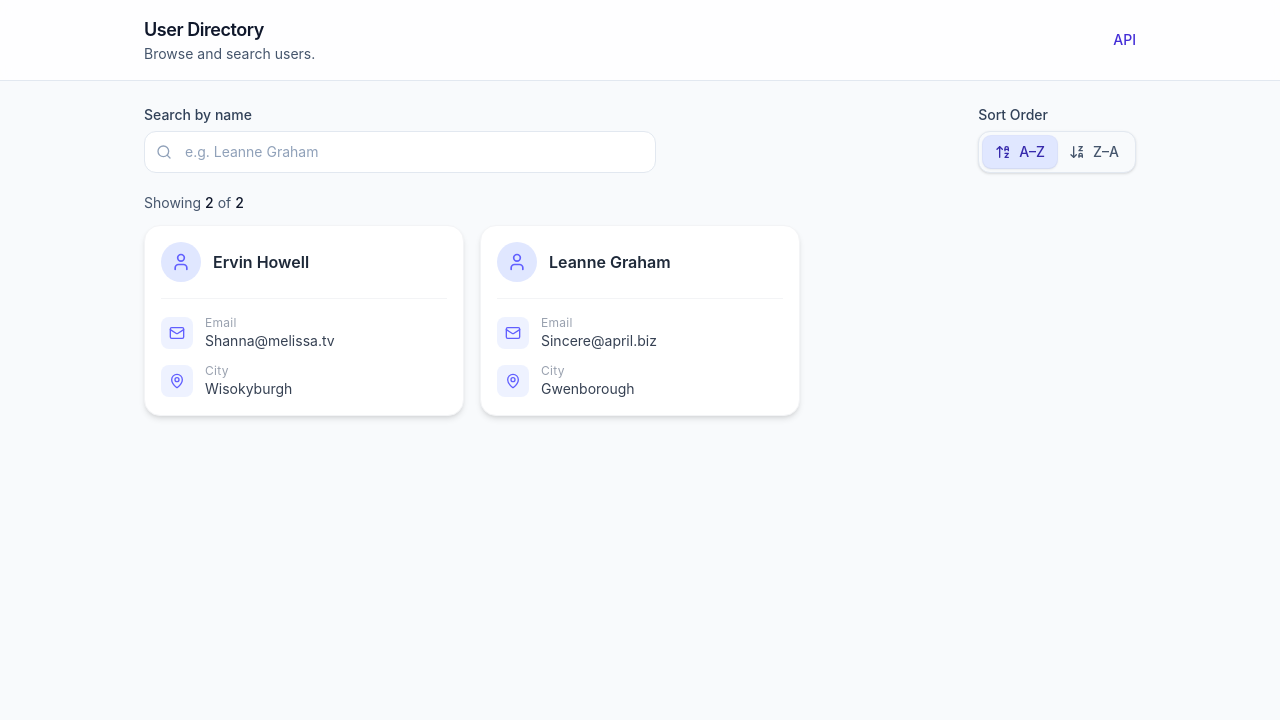
App Integration › should update URL when a user is clicked and open modal
Expected: the text "Leanne Graham" is shown, [549,250,671,274]
Click the button "Leanne Graham" at (517, 262), box [480,225,800,416]
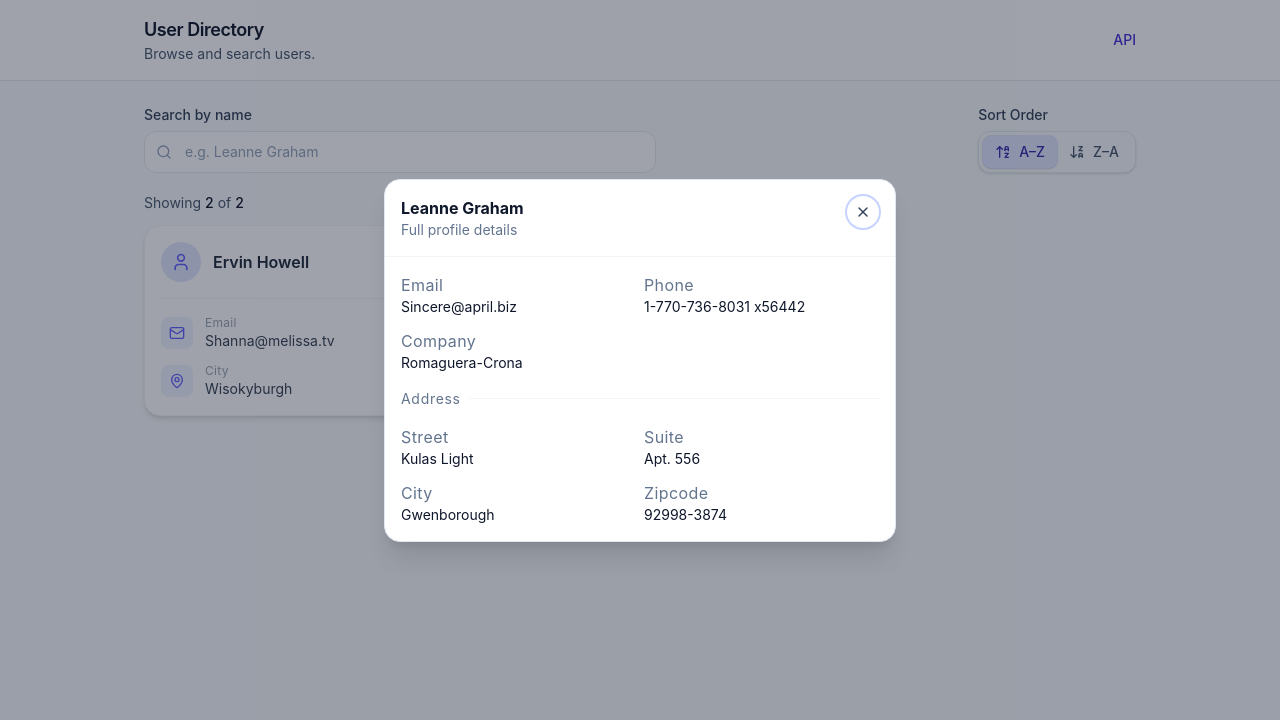
Expected: the text "Full profile details" is shown, [401,220,524,240]
Click the button named "Close overlay" at (77, 360), box [0,0,1279,719]
(page scrolled)
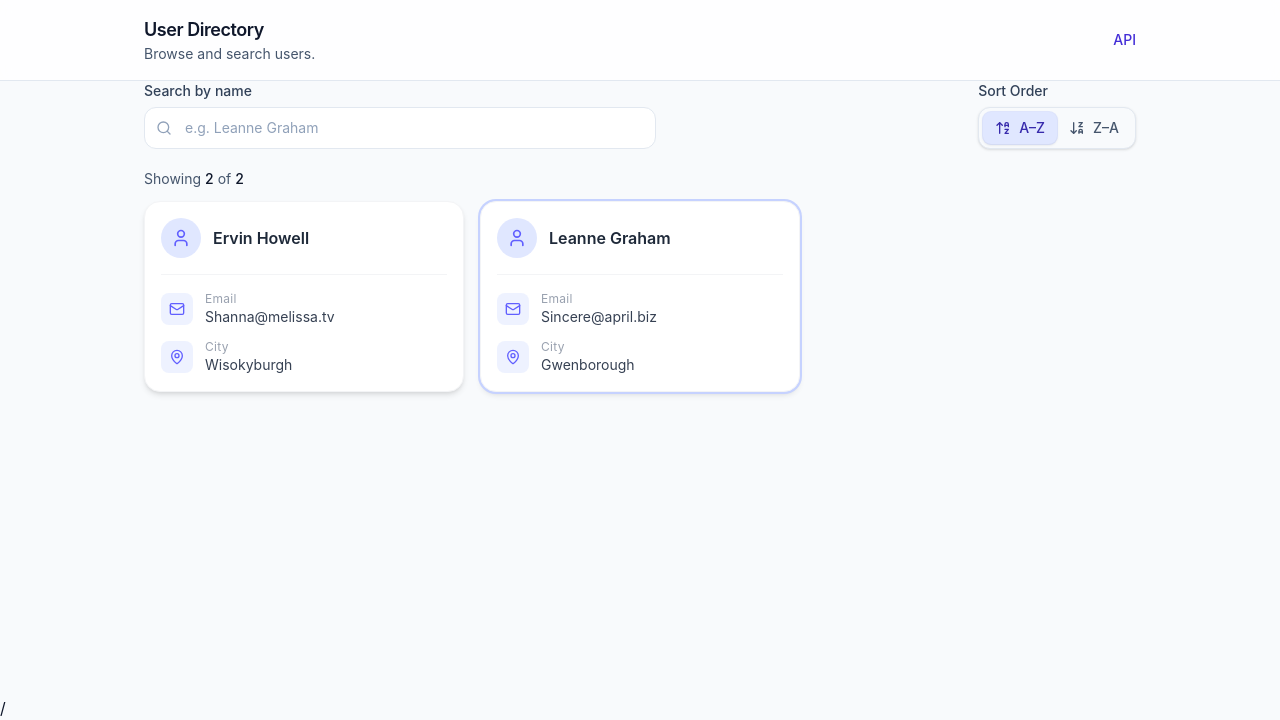
Expected: the text "Full profile details" is gone
Expected: the text with test id "location-display" reads "/", [0,698,6,718]
